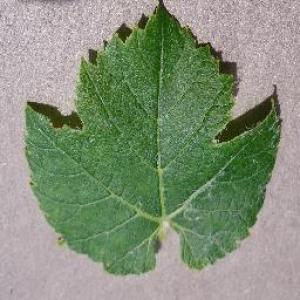Folha: (22, 0, 282, 275)
